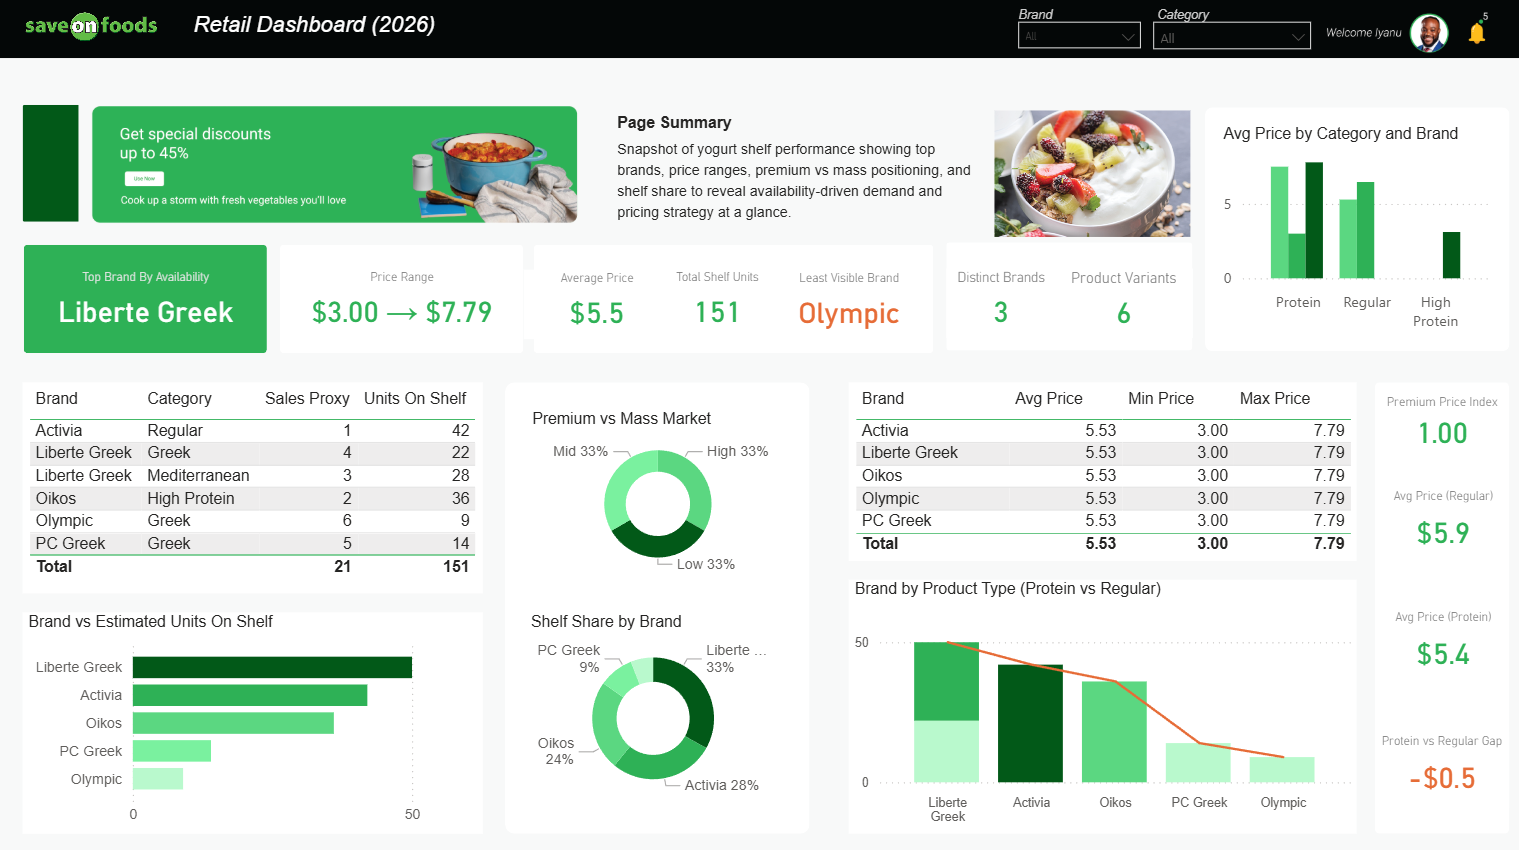

The page's visual inventory and layout, read from the dashboard file:
{"tool":"powerbi","page":{"name":"Dashboard Main","canvas":[1280,720],"ordinal":0},"visuals":[{"type":"image","box":[0,0,1280.2,720.2],"z":0},{"type":"slicer","fields":{"Values":["Dim_Brand.Brand"]},"box":[851.8,16.9,113.3,35.2],"z":1000},{"type":"slicer","fields":{"Values":["yogurt_shelf_conspicuous_brands.Category"]},"box":[965.2,16.8,143,34.7],"z":2000},{"type":"textbox","box":[968.3,0,68.3,32.6],"z":3000},{"type":"textbox","box":[851.8,0,71.6,32.6],"z":4000},{"type":"textbox","box":[157.6,13,247.5,24.7],"z":5000},{"type":"image","box":[0,0,148.5,52.1],"z":6000},{"type":"textbox","box":[513.8,113.9,318,84.2],"z":7000},{"type":"shape","box":[19.5,209.7,204.5,91.2],"z":8000},{"type":"card","title":"Top Brand By  Availability","fields":{"Values":["Measures_Table.Top Brand (Availability)"]},"box":[31.3,229.2,182.3,58.6],"z":9000},{"type":"shape","box":[235.7,209.7,204.5,91.2],"z":10000},{"type":"card","title":"Price Range","fields":{"Values":["Measures_Table.Price Range (Min → Max)"]},"box":[252.7,229.2,171.9,58.6],"z":11000},{"type":"shape","box":[449.3,209.7,336,91.2],"z":12000},{"type":"card","title":"Average Price","fields":{"Values":["Measures_Table.Avg Price"]},"box":[440.2,230.5,123.7,58.6],"z":13000},{"type":"card","title":"Least Visible Brand","fields":{"Values":["Measures_Table.Least Visible Brand"]},"box":[617.3,230.5,194.1,58.6],"z":14000},{"type":"shape","box":[795.8,207.1,207.1,91.2],"z":15000},{"type":"card","title":"Product Variants","fields":{"Values":["Measures_Table.Product Variants"]},"box":[886.9,229.2,115.9,58.6],"z":16000},{"type":"card","title":"Total Shelf Units","fields":{"Values":["Measures_Table.Total Shelf Units"]},"box":[548.3,229.2,109.4,58.6],"z":17000},{"type":"card","title":"Distinct Brands","fields":{"Values":["Measures_Table.Distinct Brands"]},"box":[795.8,229.2,92.5,58.6],"z":18000},{"type":"shape","box":[19,91.4,47.5,98.5],"z":19000},{"type":"clusteredBarChart","title":"Brand vs Estimated Units On Shelf","fields":{"Category":["yogurt_shelf_conspicuous_brands.Brand"],"Y":["Sum(yogurt_shelf_conspicuous_brands.Estimated_Units_On_Shelf)"]},"box":[19,518.5,386.8,186.3],"z":20000},{"type":"tableEx","fields":{"Values":["yogurt_shelf_conspicuous_brands.Brand","yogurt_shelf_conspicuous_brands.Category","Sum(yogurt_shelf_conspicuous_brands.Sales_Proxy_Rank)","Sum(yogurt_shelf_conspicuous_brands.Estimated_Units_On_Shelf)"]},"box":[19,325.1,386.8,178],"z":21000},{"type":"shape","box":[424.8,325.1,256.3,379.7],"z":22000},{"type":"lineStackedColumnComboChart","title":"Brand by Product Type (Protein vs Regular)","fields":{"Category":["yogurt_shelf_conspicuous_brands.Brand"],"Series":["yogurt_shelf_conspicuous_brands.Category"],"Y2":["Sum(yogurt_shelf_conspicuous_brands.Estimated_Units_On_Shelf)"],"Y":["Sum(yogurt_shelf_conspicuous_brands.Estimated_Units_On_Shelf)"]},"box":[714.3,491.2,427.1,213.6],"z":23000},{"type":"donutChart","title":"Premium vs Mass Market","fields":{"Category":["yogurt_shelf_expanded.Price Tier"],"Y":["Measures_Table.Total Shelf Units"]},"box":[442.6,347.6,221.9,143.6],"z":24000},{"type":"donutChart","title":"Shelf Share by Brand","fields":{"Category":["yogurt_shelf_conspicuous_brands.Brand"],"Y":["Measures_Table.Total Shelf Units"]},"box":[441.4,518.5,215.9,163.7],"z":25000},{"type":"tableEx","fields":{"Values":["yogurt_shelf_conspicuous_brands.Brand","Measures_Table.Avg Price","Measures_Table.Min Price","Measures_Table.Max Price"]},"box":[714.3,325.1,427.1,150.7],"z":26000},{"type":"shape","box":[1156.8,325.1,112.7,379.7],"z":27000},{"type":"shape","box":[1013.3,93.7,256.3,205.3],"z":28000},{"type":"clusteredColumnChart","fields":{"Category":["yogurt_shelf_expanded.Category"],"Y":["Measures_Table.Avg Price"],"Series":["Dim_Brand.Brand"]},"box":[1024,108,234.9,180.3],"z":29000},{"type":"card","title":"Premium Price Index","fields":{"Values":["Measures_Table.Premium Price Index"]},"box":[1154.5,334.6,117.5,52.2],"z":30000},{"type":"card","title":"Avg Price (Protein)","fields":{"Values":["Measures_Table.Avg Price (Protein)"]},"box":[1156.8,514.9,115.1,62.9],"z":31000},{"type":"card","title":"Avg Price (Regular)","fields":{"Values":["Measures_Table.Avg Price (Regular)"]},"box":[1156.8,412.9,115.1,62.9],"z":32000},{"type":"card","title":"Protein vs Regular Gap","fields":{"Values":["Measures_Table.Protein vs Regular Gap"]},"box":[1156.8,619.4,112.7,62.9],"z":33000},{"type":"textbox","box":[513.8,91.4,318,28.5],"z":34000},{"type":"image","box":[831.7,91.4,170.9,116.3],"z":35000}]}

Visuals, with their boxes in screenshot pixels (x1, y1, x2, y2), scaled from the page's 1280x720 canvas onto the 1519x850 screenshot:
image: 0, 0, 1518, 849
slicer - Dim_Brand.Brand: 1011, 20, 1145, 62
slicer - yogurt_shelf_conspicuous_brands.Category: 1145, 20, 1315, 61
textbox: 1149, 0, 1230, 38
textbox: 1011, 0, 1096, 38
textbox: 187, 15, 481, 45
image: 0, 0, 176, 62
textbox: 610, 134, 987, 234
shape: 23, 248, 266, 355
"Top Brand By  Availability" card: 37, 271, 253, 340
shape: 280, 248, 522, 355
"Price Range" card: 300, 271, 504, 340
shape: 533, 248, 932, 355
"Average Price" card: 522, 272, 669, 341
"Least Visible Brand" card: 733, 272, 963, 341
shape: 944, 244, 1190, 352
"Product Variants" card: 1053, 271, 1190, 340
"Total Shelf Units" card: 651, 271, 781, 340
"Distinct Brands" card: 944, 271, 1054, 340
shape: 23, 108, 79, 224
"Brand vs Estimated Units On Shelf" clusteredBarChart: 23, 612, 482, 832
tableEx - yogurt_shelf_conspicuous_brands.Brand x yogurt_shelf_conspicuous_brands.Category: 23, 384, 482, 594
shape: 504, 384, 808, 832
"Brand by Product Type (Protein vs Regular)" lineStackedColumnComboChart: 848, 580, 1355, 832
"Premium vs Mass Market" donutChart: 525, 410, 789, 580
"Shelf Share by Brand" donutChart: 524, 612, 780, 805
tableEx - yogurt_shelf_conspicuous_brands.Brand x Measures_Table.Avg Price: 848, 384, 1355, 562
shape: 1373, 384, 1507, 832
shape: 1203, 111, 1507, 353
clusteredColumnChart - yogurt_shelf_expanded.Category x Measures_Table.Avg Price: 1215, 128, 1494, 340
"Premium Price Index" card: 1370, 395, 1510, 457
"Avg Price (Protein)" card: 1373, 608, 1509, 682
"Avg Price (Regular)" card: 1373, 487, 1509, 562
"Protein vs Regular Gap" card: 1373, 731, 1507, 805
textbox: 610, 108, 987, 142
image: 987, 108, 1190, 245
